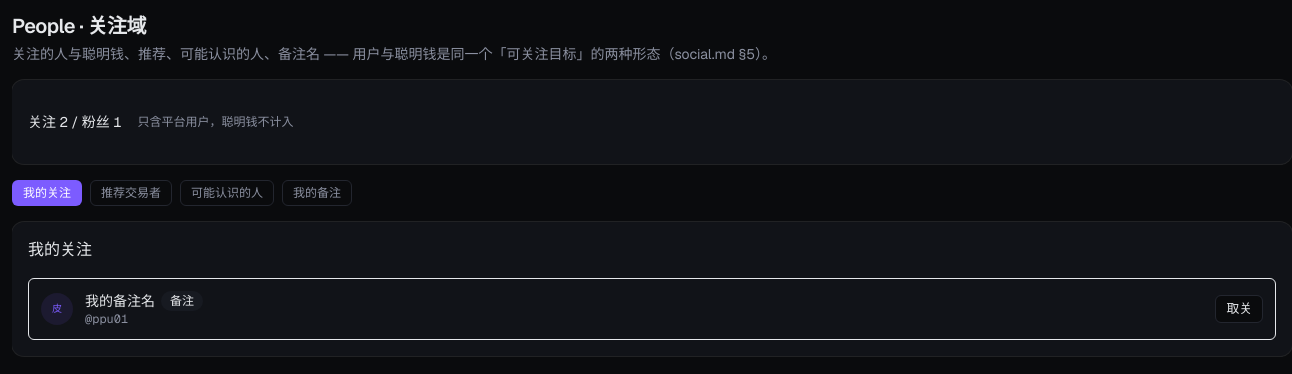
Test case: PeopleView 我的关注（混合列表） › 取关：乐观移除（不等回包）→ 成功后重拉计数（§5.5 实时）
This screenshot has width=1292, height=374.
Expected: the link "我的备注名" is shown, [85,291,155,311]
Click the button "取关" at (1239, 309), box [1215,295,1263,323]
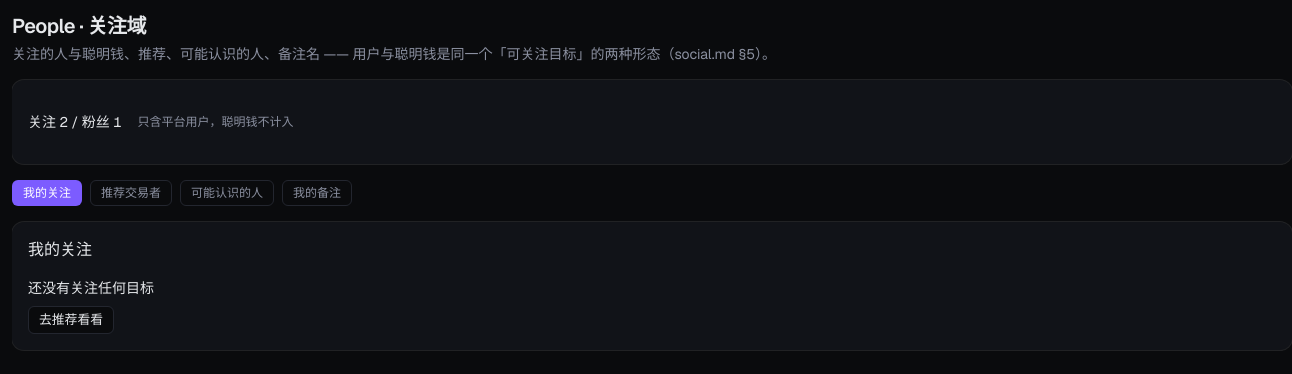
Now the link "我的备注名" is gone
